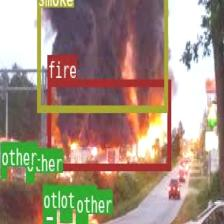fire: (47, 78, 170, 169)
smoke: (37, 0, 167, 110)
